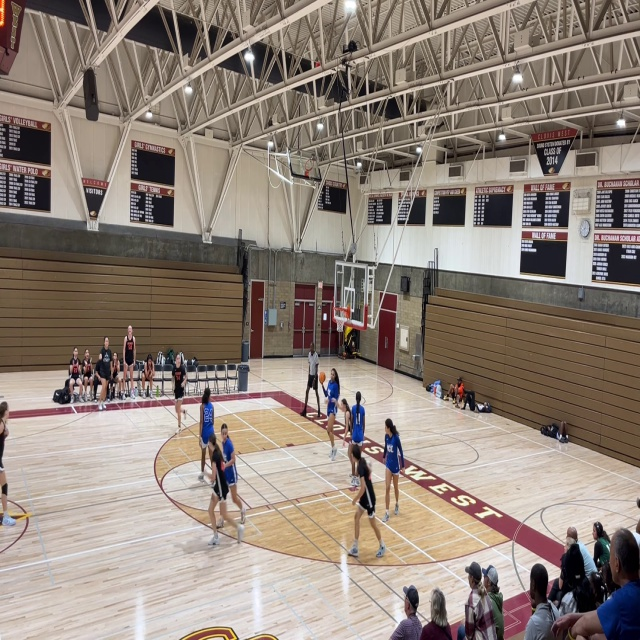Basketball: (318, 371, 325, 383)
